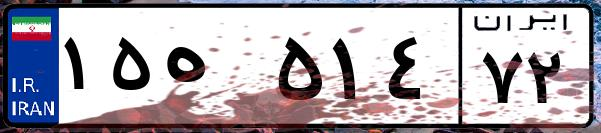1: (330, 28, 385, 110), (57, 26, 110, 100)
2: (525, 38, 570, 115)
4: (385, 28, 445, 110)
5: (270, 28, 330, 110), (110, 28, 158, 98)
7: (475, 38, 525, 113)
ه: (158, 20, 270, 120)
